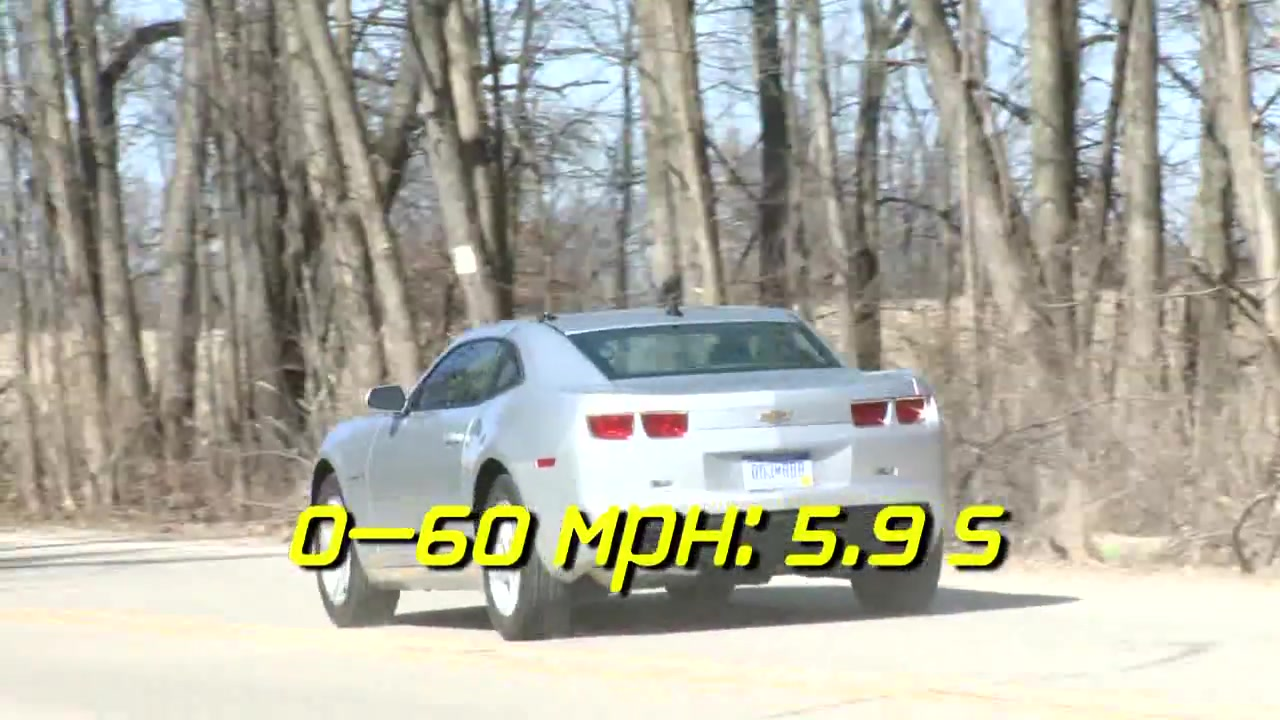car: (305, 309, 956, 644)
